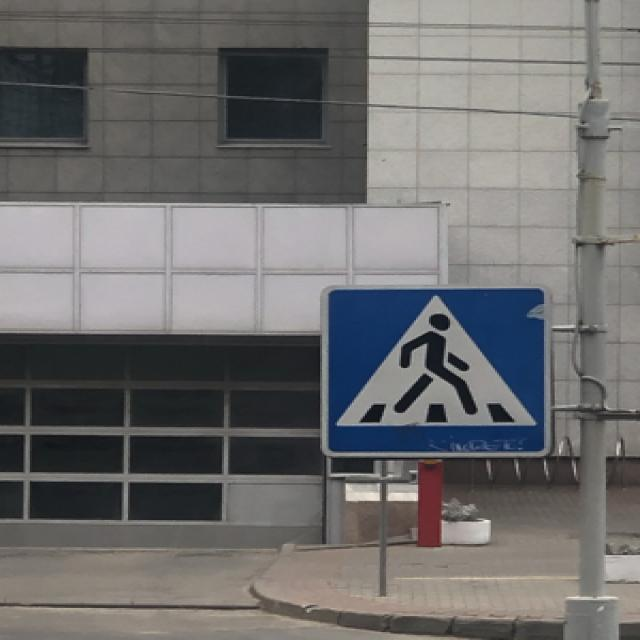crosswalk_sign: (320, 284, 552, 458)
